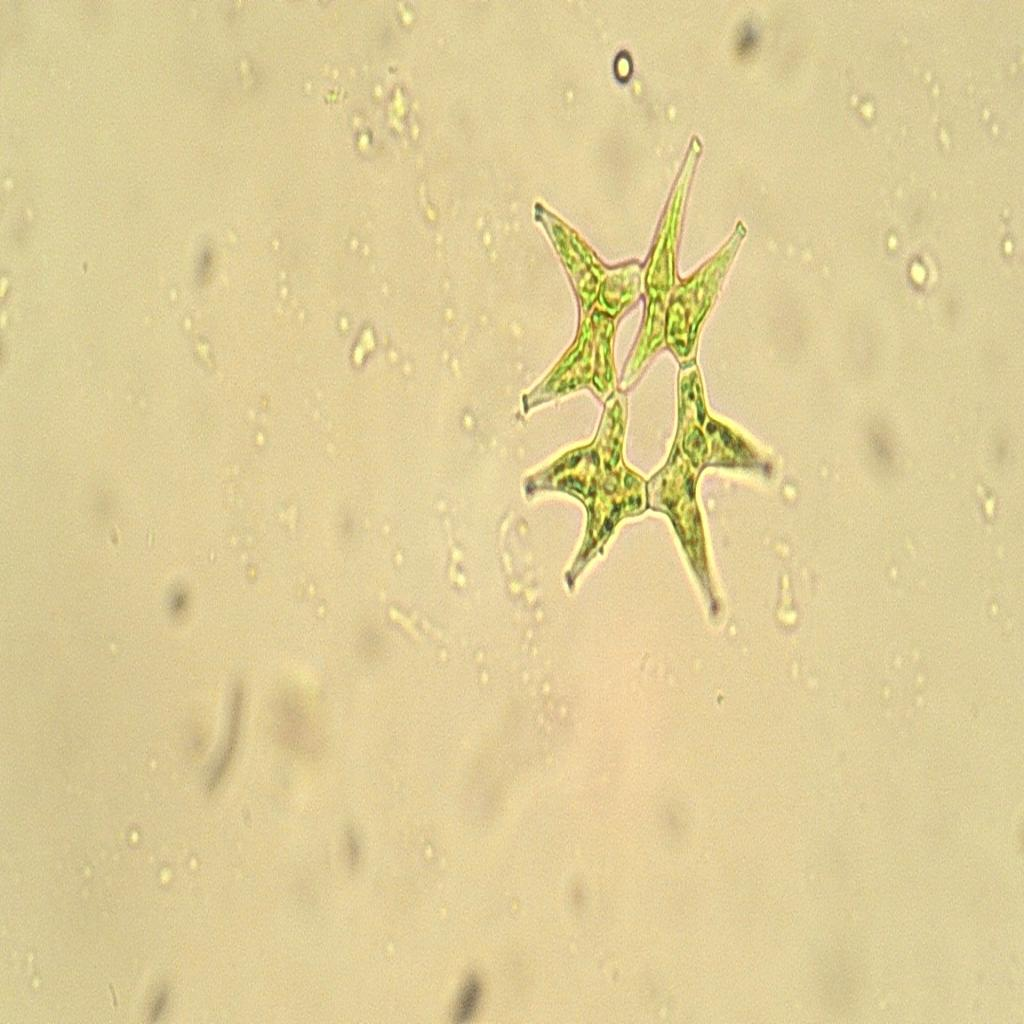Pediastrum_CF: (509, 105, 784, 672)
